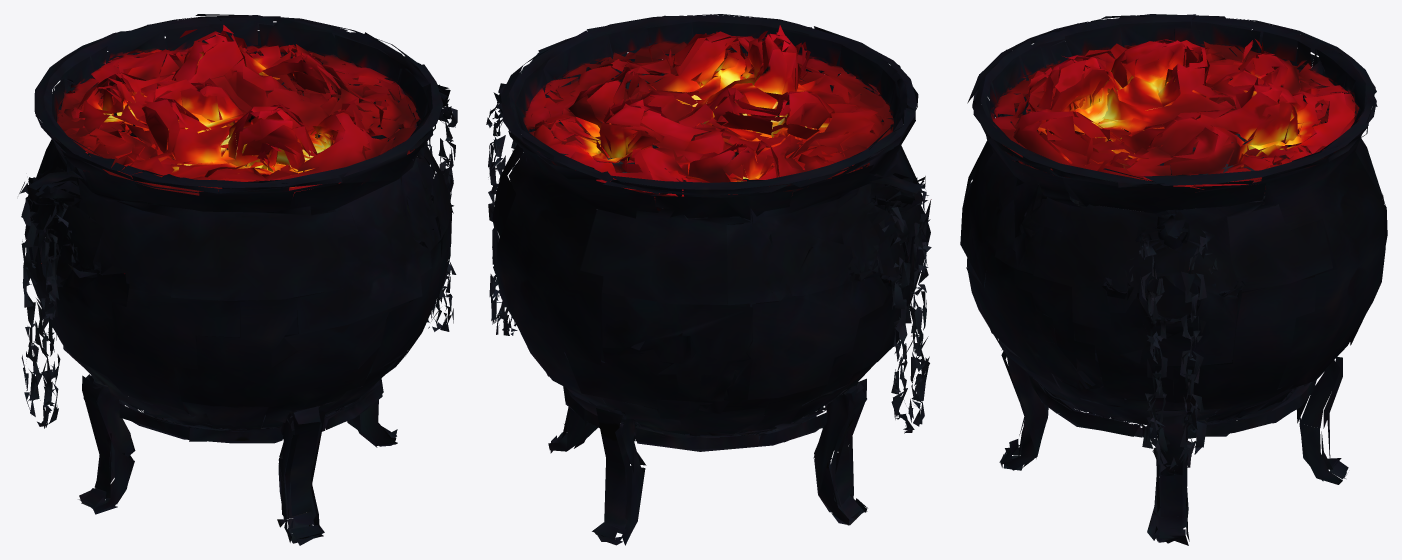
The model's file is ink_cauldron.glb.
The picture shows the model from 3 angles, left to right: view 1: azimuth 30°, elevation 25°; view 2: azimuth 150°, elevation 25°; view 3: azimuth 270°, elevation 25°; orthographic projection. The views are drawn at different scales.
Parts seen in each view (by area): view 1: ink_cauldron_body; view 2: ink_cauldron_body; view 3: ink_cauldron_body.
Part boxes in pixels (x1,y1,x2,y2): ink_cauldron_body: [19, 14, 457, 545]; ink_cauldron_body: [486, 14, 931, 545]; ink_cauldron_body: [960, 14, 1387, 545].
Bounding box in the file's own units: 3.2 × 3.05 × 2.86.
Materials: 1 (1 with a texture image).
